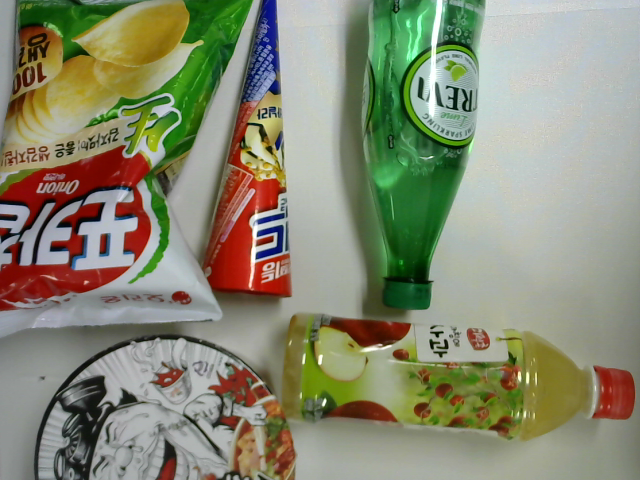HeJangsock: (31, 332, 305, 480)
Morning_Apple_500ml: (271, 309, 640, 443)
Pocachip_Onion: (1, 1, 258, 350)
Treviraim_500ml: (356, 1, 494, 324)
World_Cone_Banila: (195, 1, 299, 309)
